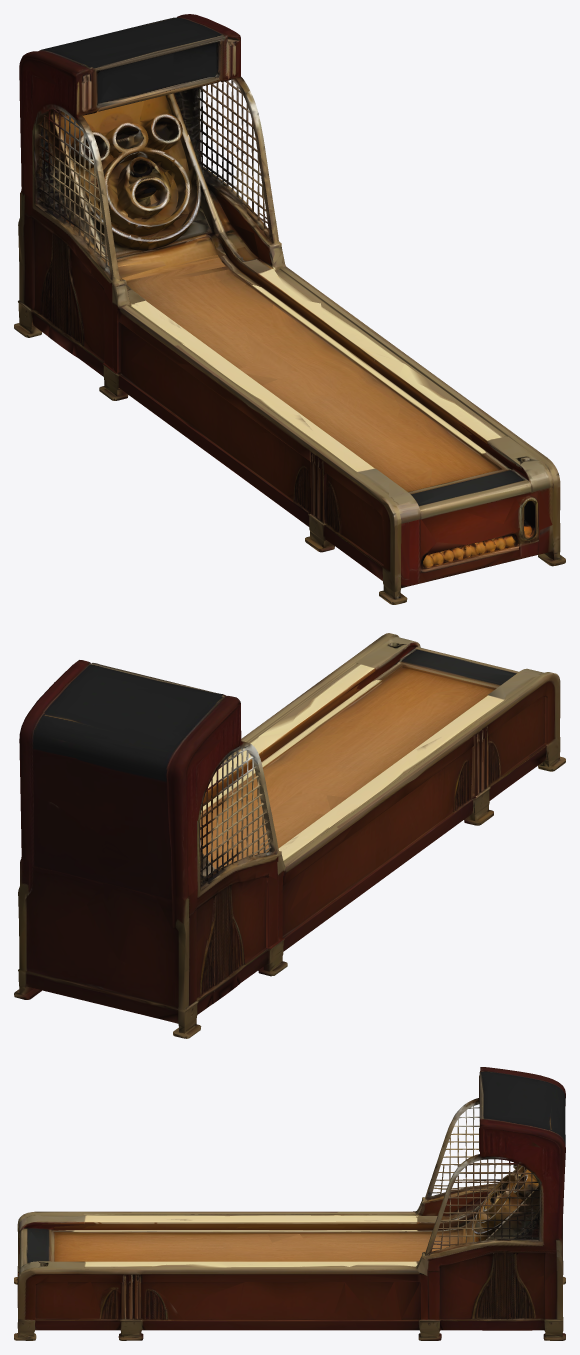
The model's file is skee-cabinet-v1.glb.
3 views of the same model, one above another, from view 1: azimuth 30°, elevation 25°; view 2: azimuth 150°, elevation 25°; view 3: azimuth 270°, elevation 25° (orthographic). The views are drawn at different scales.
Visible parts, largest first — view 1: SkeeCabinet; view 2: SkeeCabinet; view 3: SkeeCabinet.
Part boxes in pixels (box(x1,y1,x2,y2)): SkeeCabinet: box(14, 14, 565, 604); SkeeCabinet: box(14, 633, 565, 1038); SkeeCabinet: box(14, 1067, 565, 1340).
Bounding box in the file's own units: 1.23 × 1.98 × 4.6.
1 material, 1 textured.
